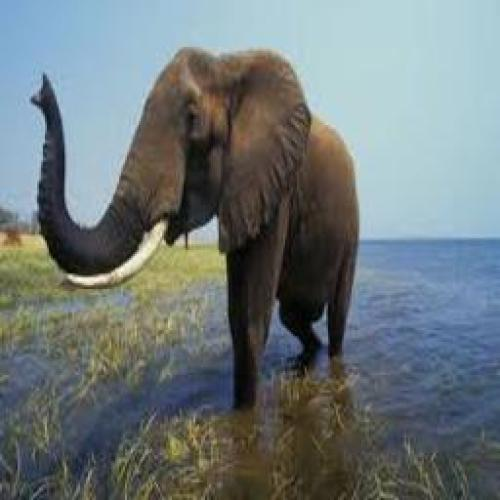african_elephant-endangered: (33, 48, 361, 414)
